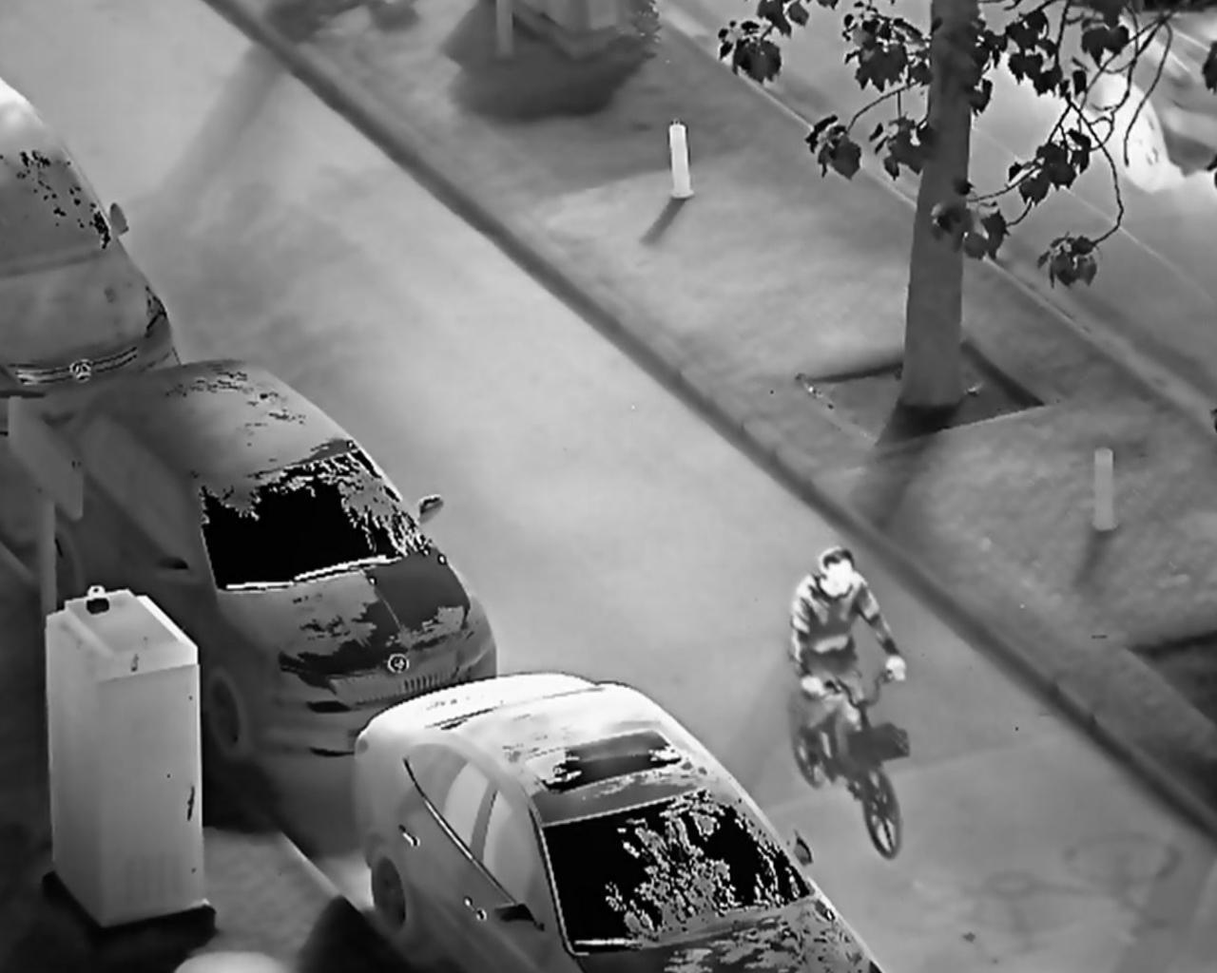person: (787, 541, 904, 783)
